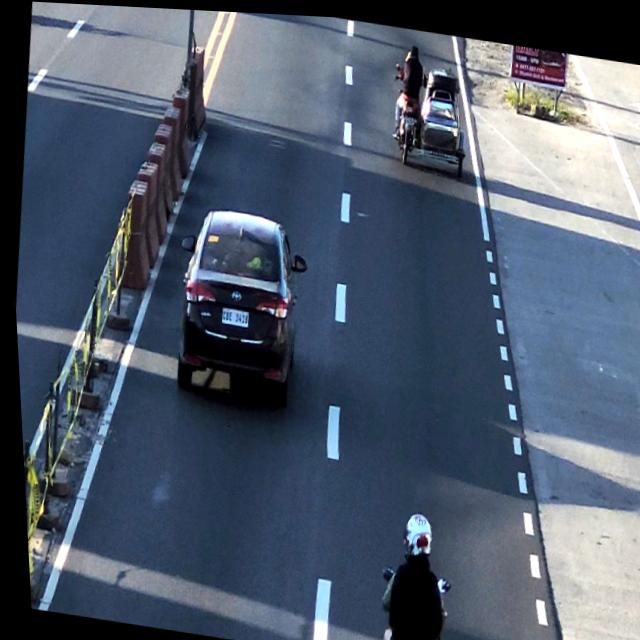Car: (168, 203, 299, 400)
License-Plate: (213, 303, 247, 330)
Motorcycle: (366, 506, 454, 640)
Tricycle: (387, 41, 475, 165)
